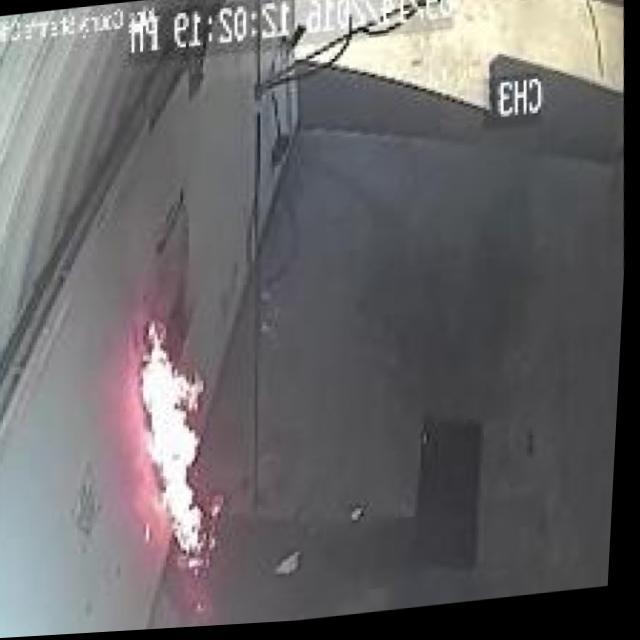fire: (125, 298, 238, 573)
